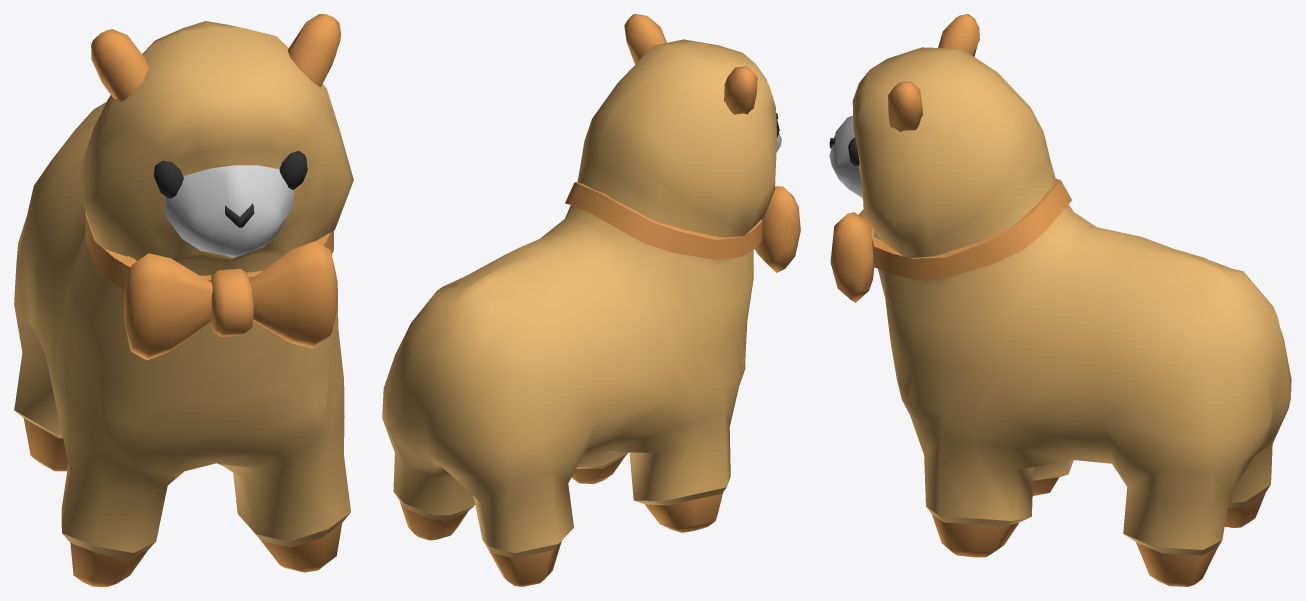
The model's file is Alpaca.fbx.
The picture shows the model from 3 angles, left to right: view 1: azimuth 30°, elevation 25°; view 2: azimuth 150°, elevation 25°; view 3: azimuth 270°, elevation 25°; orthographic projection. The views are drawn at different scales.
Visible parts, largest first — view 1: Alpaca; view 2: Alpaca; view 3: Alpaca.
Part boxes in pixels (x1=…): Alpaca: x1=14, y1=14, x2=353, y2=586; Alpaca: x1=382, y1=14, x2=800, y2=586; Alpaca: x1=829, y1=14, x2=1291, y2=586.
Size of the model in its own units: 3.77 by 6.05 by 5.48.
